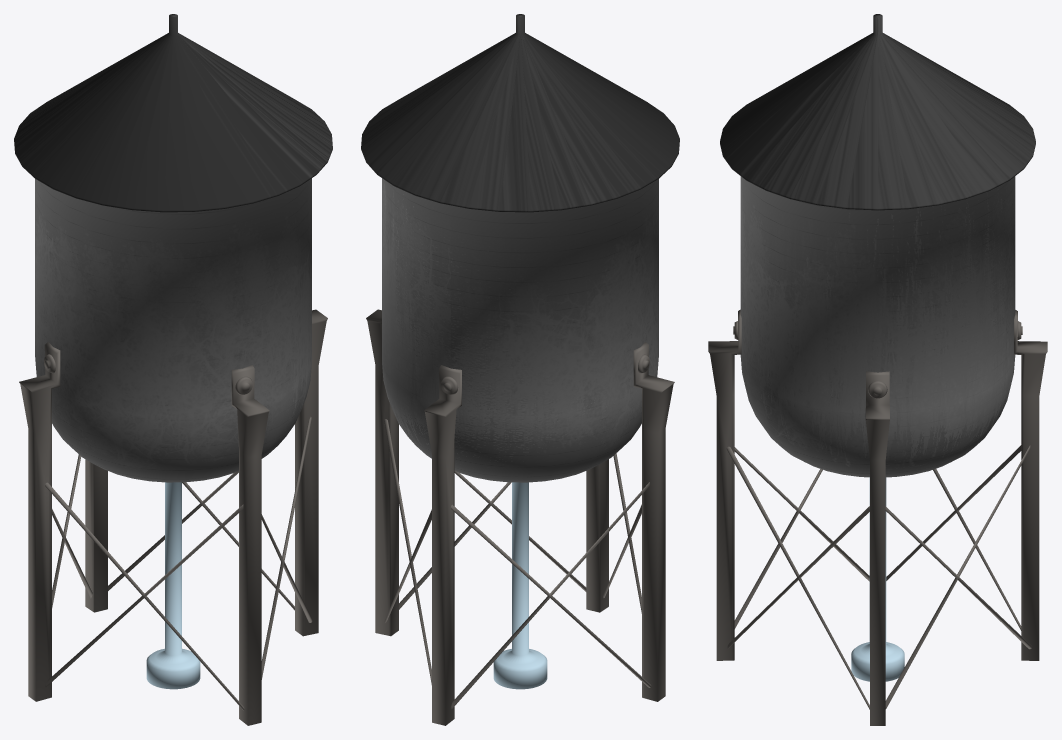
Rendered from WaterTank 1.fbx.
3 views of the same model, side by side, from view 1: azimuth 30°, elevation 25°; view 2: azimuth 150°, elevation 25°; view 3: azimuth 270°, elevation 25° (orthographic).
Parts seen in each view (by area): view 1: WaterTank, Support, Pipe; view 2: WaterTank, Support, Pipe; view 3: WaterTank, Support, Pipe.
Part boxes in pixels (<box>): WaterTank: <box>14,14,332,482</box>; Support: <box>19,309,327,725</box>; Pipe: <box>146,482,200,689</box>; WaterTank: <box>361,14,679,482</box>; Support: <box>366,309,674,725</box>; Pipe: <box>493,482,547,689</box>; WaterTank: <box>720,14,1035,477</box>; Support: <box>708,309,1047,725</box>; Pipe: <box>851,477,904,681</box>.
Bounding box in the file's own units: 247 × 526 × 247.
3 materials, 1 textured.
